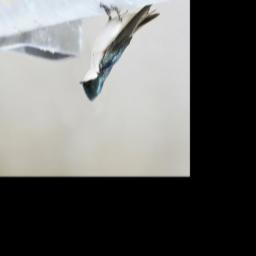Swallow: (78, 0, 161, 104)
